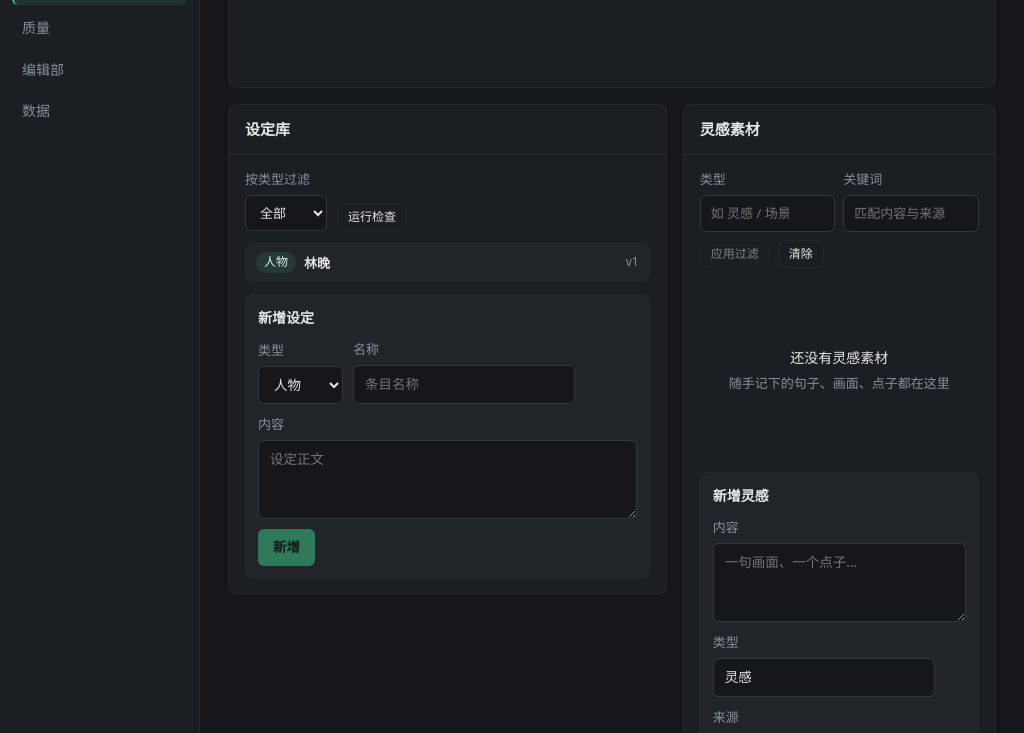
Test: settings page › adds a setting with kind label, name and content
(page scrolled)
Expected: the text "林晚" is shown, [304,253,330,273]
Type "灵潮" into the field with placeholder "条目名称" at (464, 384), box [353,365,575,404]
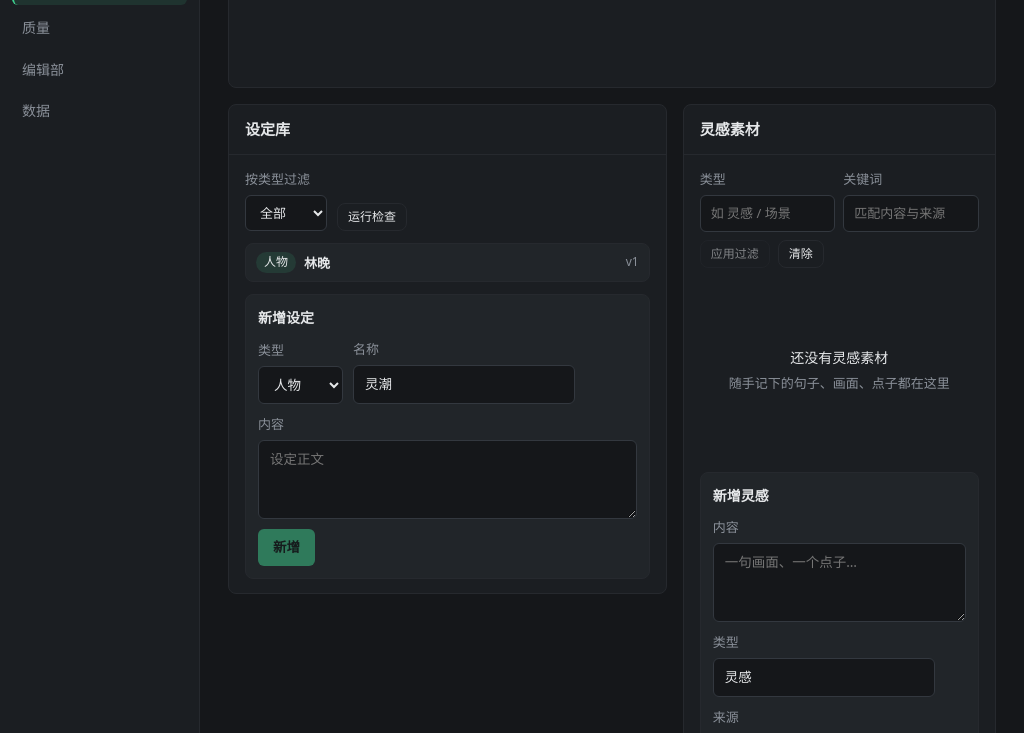
Type "灵气如潮汐" into the text box with placeholder "设定正文" below "名称" at (447, 479), box [258,440,637,519]
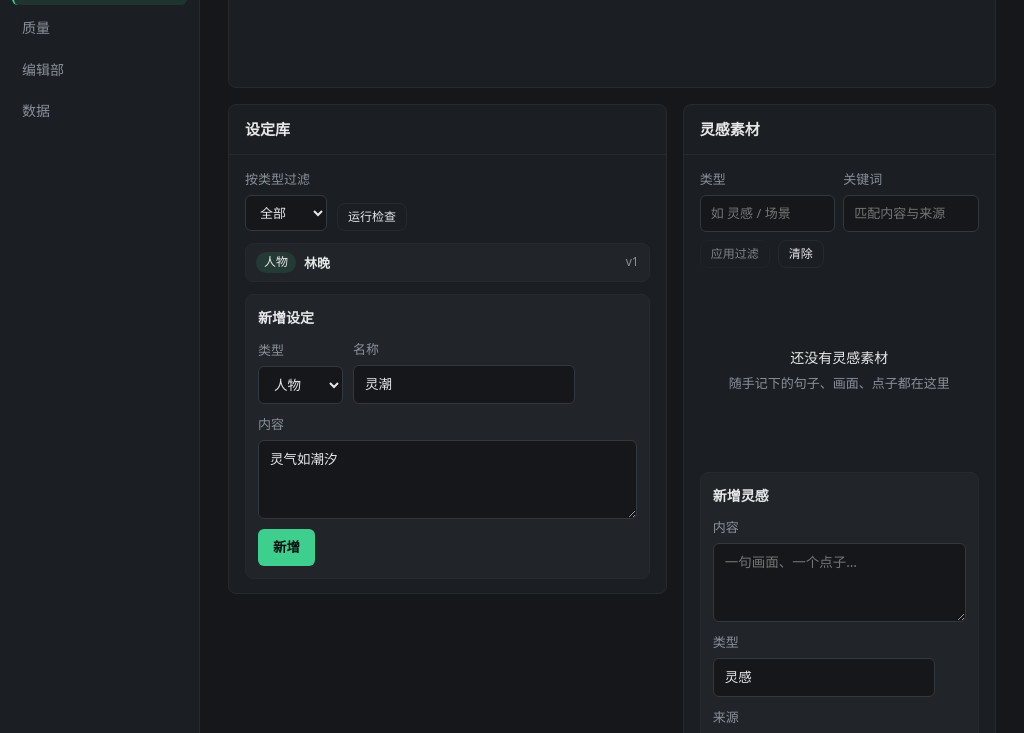
Click the button "新增" at (286, 547), box [258,529,315,566]
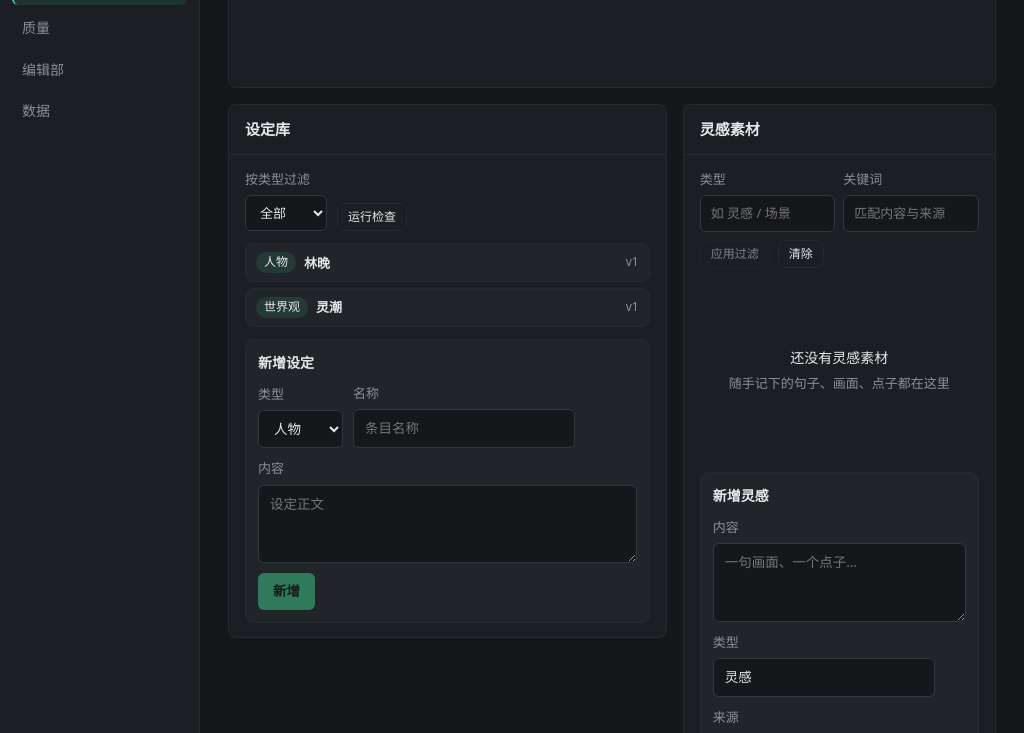
Expected: the text "灵潮" is shown, [316,297,342,317]
